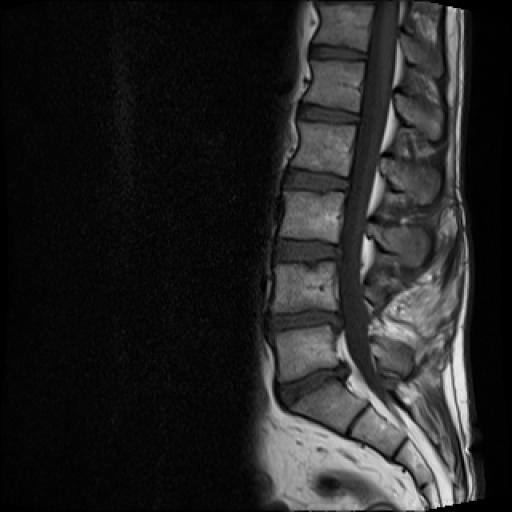L1: (304, 60, 365, 112)
L2: (291, 121, 356, 176)
L3: (280, 192, 342, 242)
L4: (272, 262, 339, 312)
L5: (275, 325, 337, 382)
S1: (291, 380, 365, 434)
